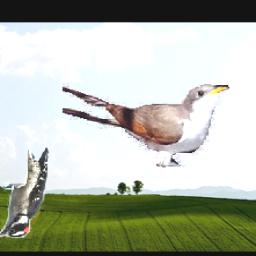Cuckoo: (63, 83, 229, 167)
Woodpecker: (0, 149, 49, 239)
